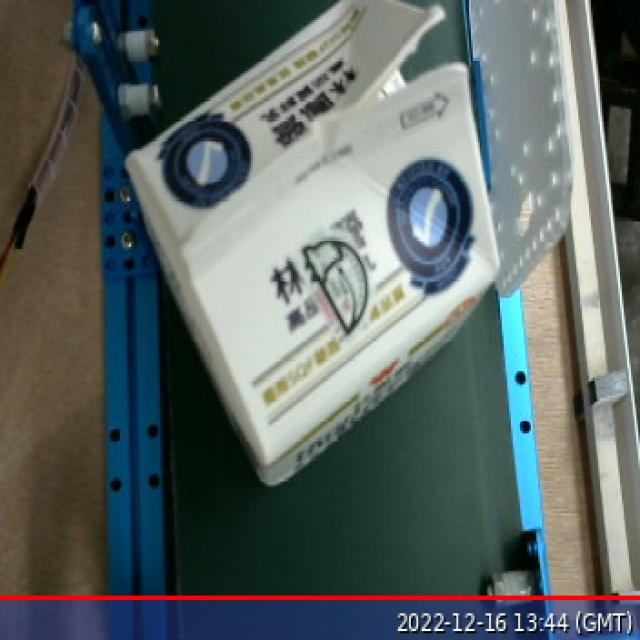non_white_jug: (104, 0, 513, 504)
